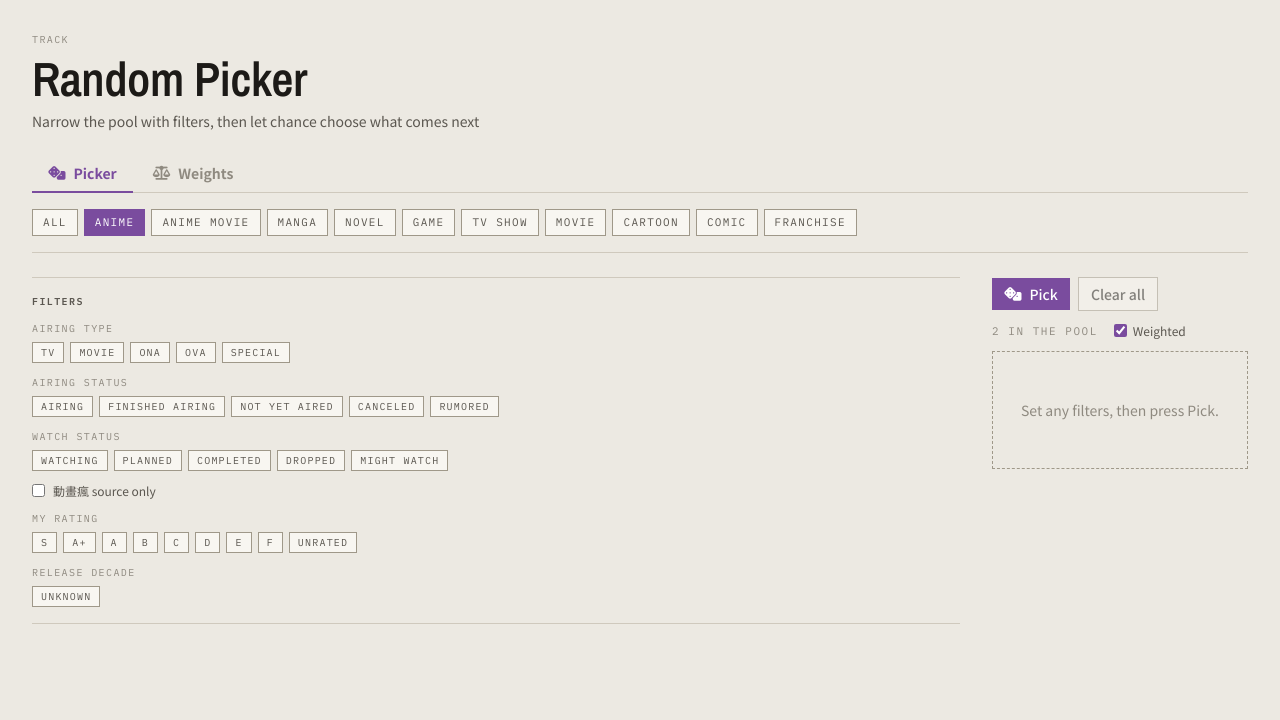
Test: empties the pool and disables the draw when nothing matches
The image size is (1280, 720).
Check: the text "2 in the pool" is shown, box [992, 322, 1098, 339]
Click the button "OVA": coordinates (196, 352) [176, 342, 216, 362]
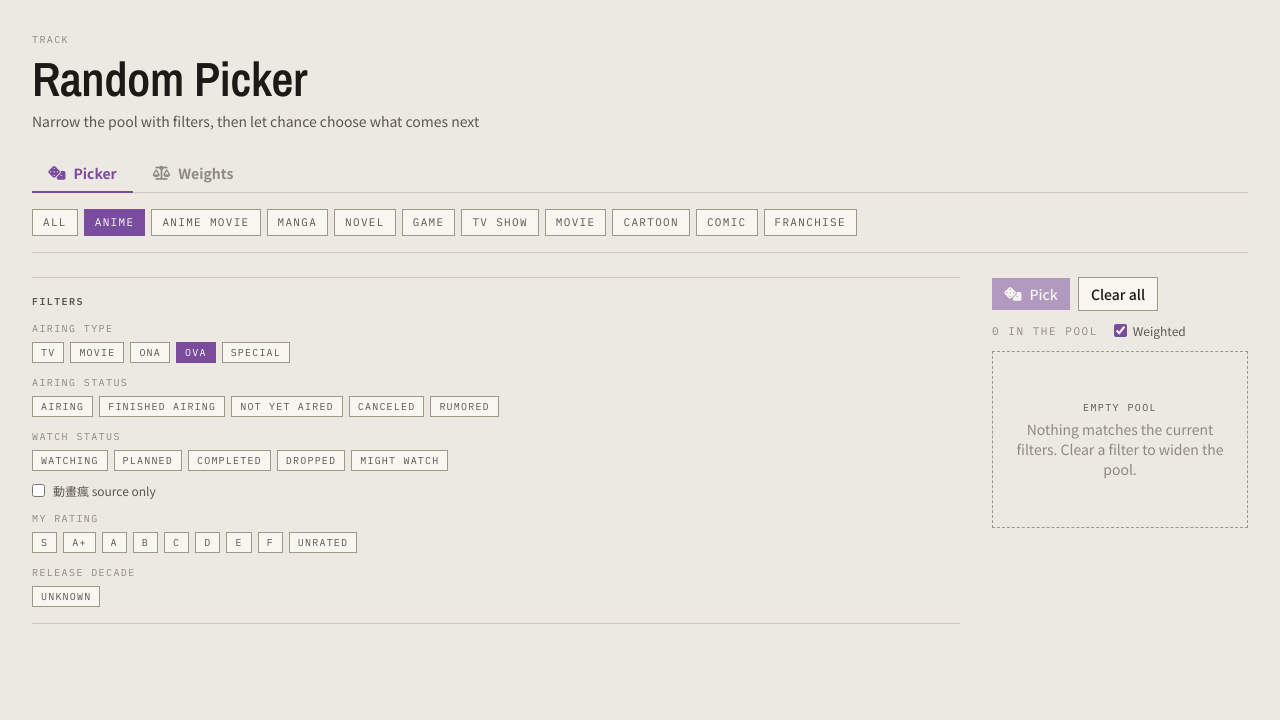
Check: the text "0 in the pool" is shown, box [992, 322, 1098, 339]
Check: the button "Pick" is disabled, box [992, 278, 1070, 310]
